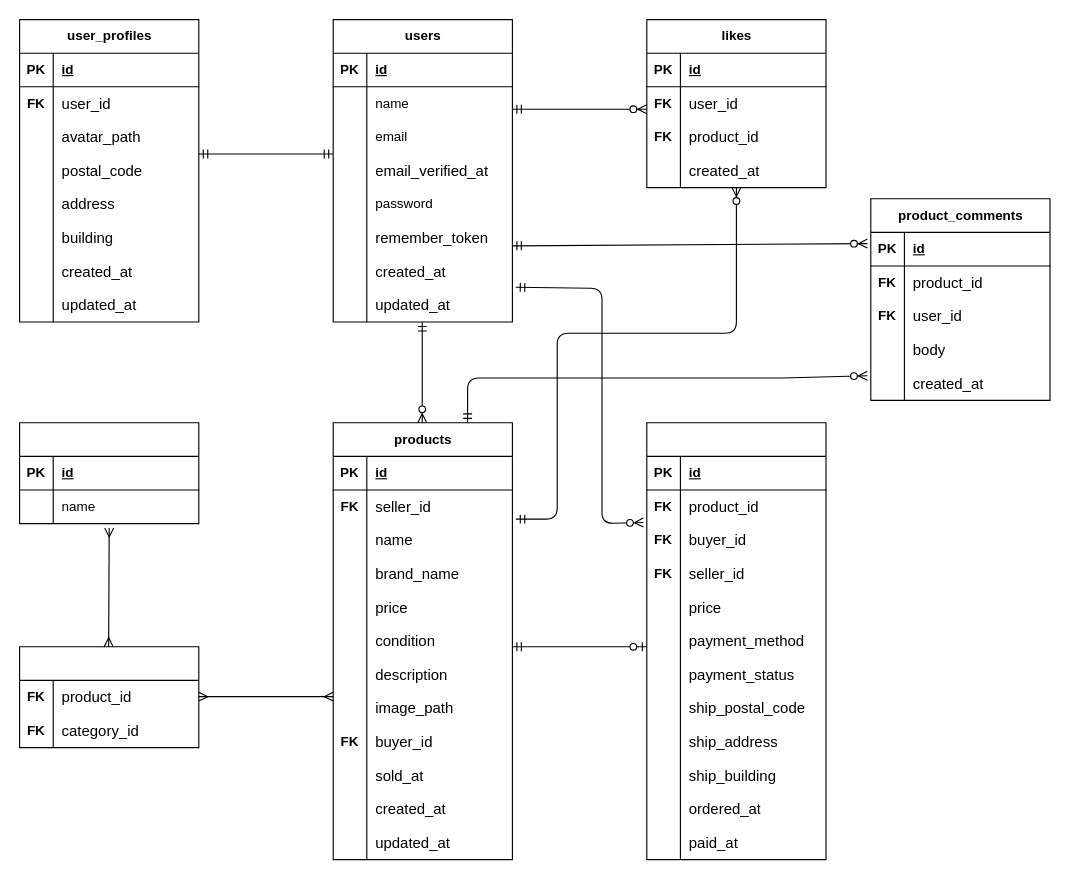
The diagram is 1070 pixels wide and 879 high, and some of its shapes have lost their labels. Here are the shapes that lost their labels. From the top down, the box of each, then its label:
(18, 422, 199, 524): categories
(646, 422, 826, 860): orders
(18, 646, 199, 748): category_product
